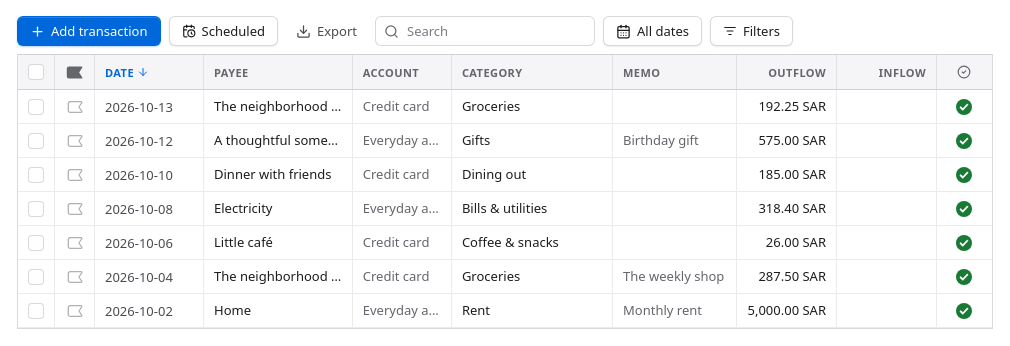
Test: filtering and selecting targets only visible transactions
Type "NoSuchPayee" into the dropdown named "Search transactions" at x=496, y=31, box x1=405 y1=19 x2=586 y2=43
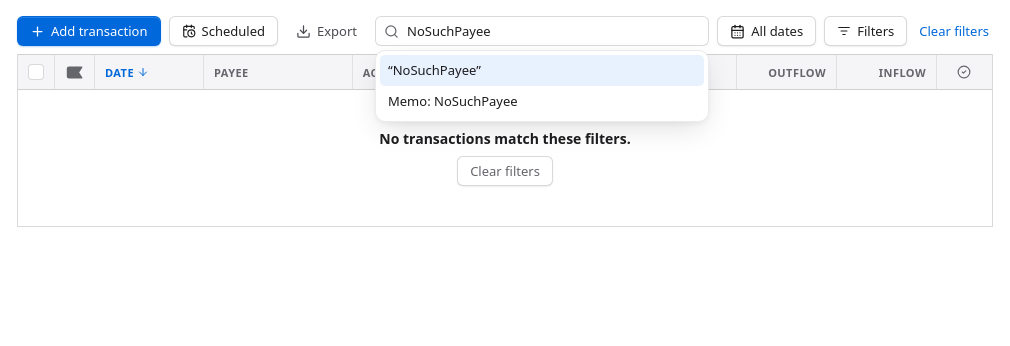
Expected: the heading "No transactions match these filters." is shown, x1=379 y1=130 x2=631 y2=148
Replace the text in the dropdown named "Search transactions" with "Home" at x=553, y=31, box x1=405 y1=19 x2=700 y2=43
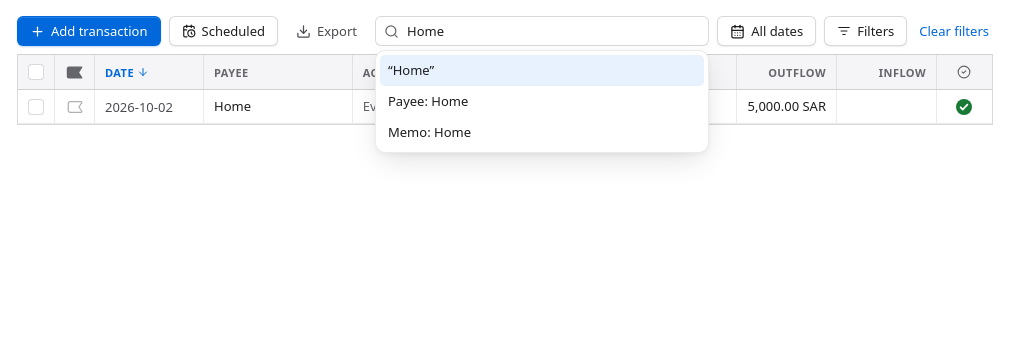
Click the checkbox named "Select all filtered transactions" at x=36, y=72, box x1=28 y1=64 x2=44 y2=80
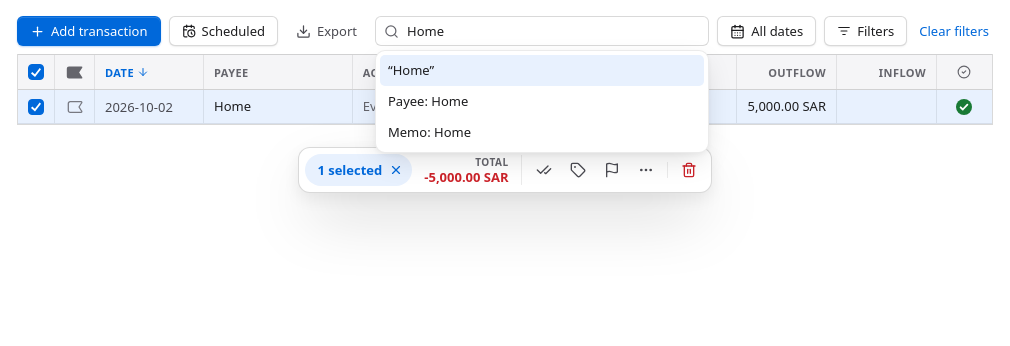
Expected: the text "1 selected" is shown, x1=317 y1=161 x2=382 y2=179
